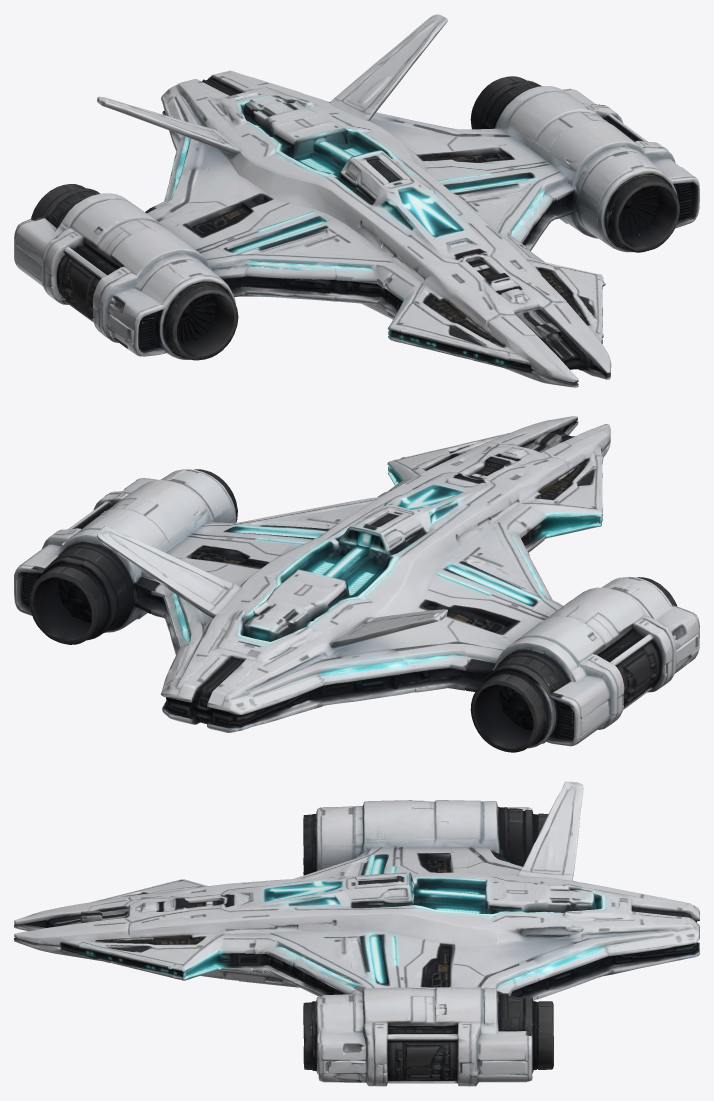
File: travix-ship.glb
3 renders of one model, top to bottom at view 1: azimuth 30°, elevation 25°; view 2: azimuth 150°, elevation 25°; view 3: azimuth 270°, elevation 25°, orthographic. The views are drawn at different scales.
Parts seen in each view (by area): view 1: travix_ship; view 2: travix_ship; view 3: travix_ship.
Part boxes in pixels (<box>): travix_ship: <box>14,14,699,387</box>; travix_ship: <box>14,416,699,752</box>; travix_ship: <box>14,781,699,1086</box>.
Size of the model in its own units: 0.8432 by 0.2085 by 1.
Materials: 1 (1 with a texture image).
